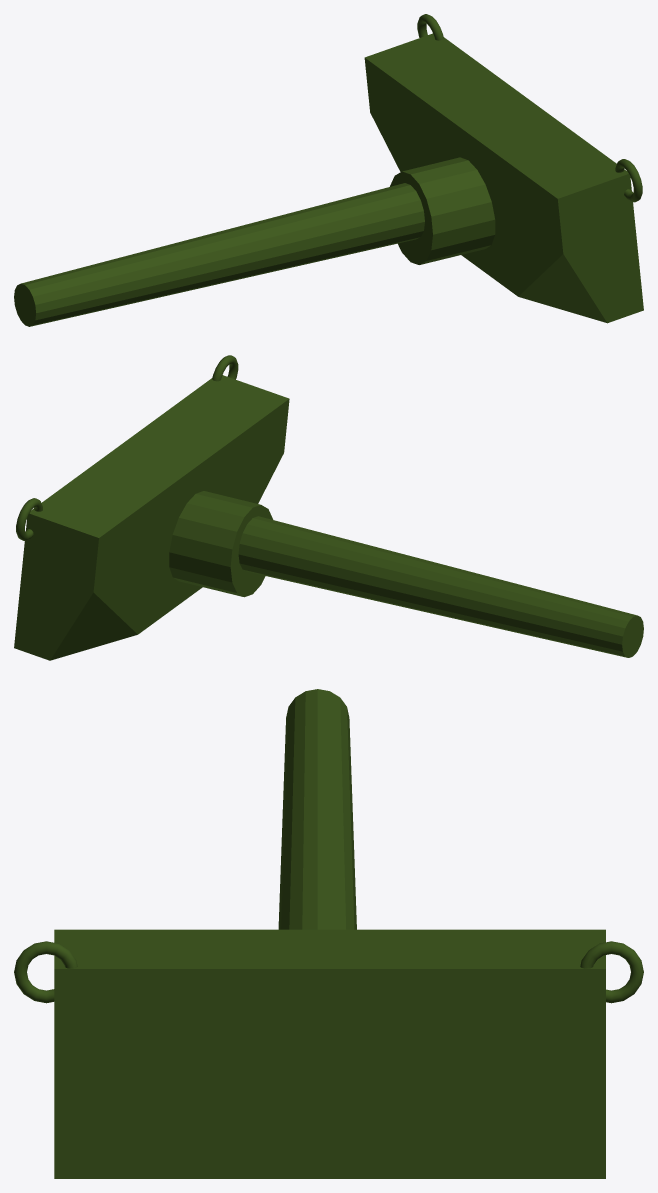
Rendered from JamboPushka.fbx.
3 views of the same model, one above another, from view 1: azimuth 30°, elevation 25°; view 2: azimuth 150°, elevation 25°; view 3: azimuth 270°, elevation 25° (orthographic). The views are drawn at different scales.
Visible parts, largest first — view 1: Маска, Cylinder.002, Cylinder.001, Torus.001, Torus.002; view 2: Маска, Cylinder.002, Cylinder.001, Torus.002, Torus.001; view 3: Маска, Cylinder.002, Torus.001, Torus.002.
Boxes of the visible parts, x1,y1,x2,y2 form: Маска: (364, 33, 643, 323); Cylinder.002: (14, 183, 424, 326); Cylinder.001: (390, 157, 495, 264); Torus.001: (615, 159, 642, 202); Torus.002: (417, 14, 443, 40); Маска: (14, 375, 289, 660); Cylinder.002: (238, 516, 643, 657); Cylinder.001: (169, 491, 273, 597); Torus.002: (16, 498, 42, 540); Torus.001: (212, 355, 238, 381); Маска: (54, 929, 605, 1178); Cylinder.002: (278, 689, 356, 929); Torus.001: (14, 941, 77, 1003); Torus.002: (580, 941, 643, 1003).
Bounding box in the file's own units: 97.36 × 29.05 × 70.66.
